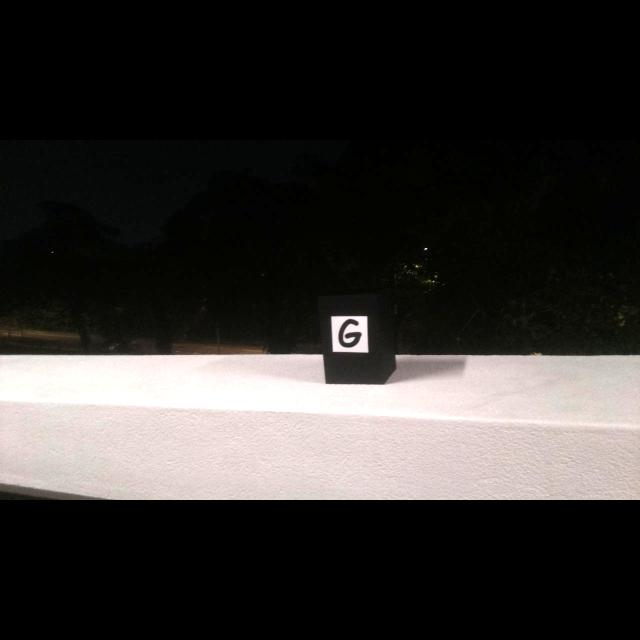G: (339, 319, 361, 347)
